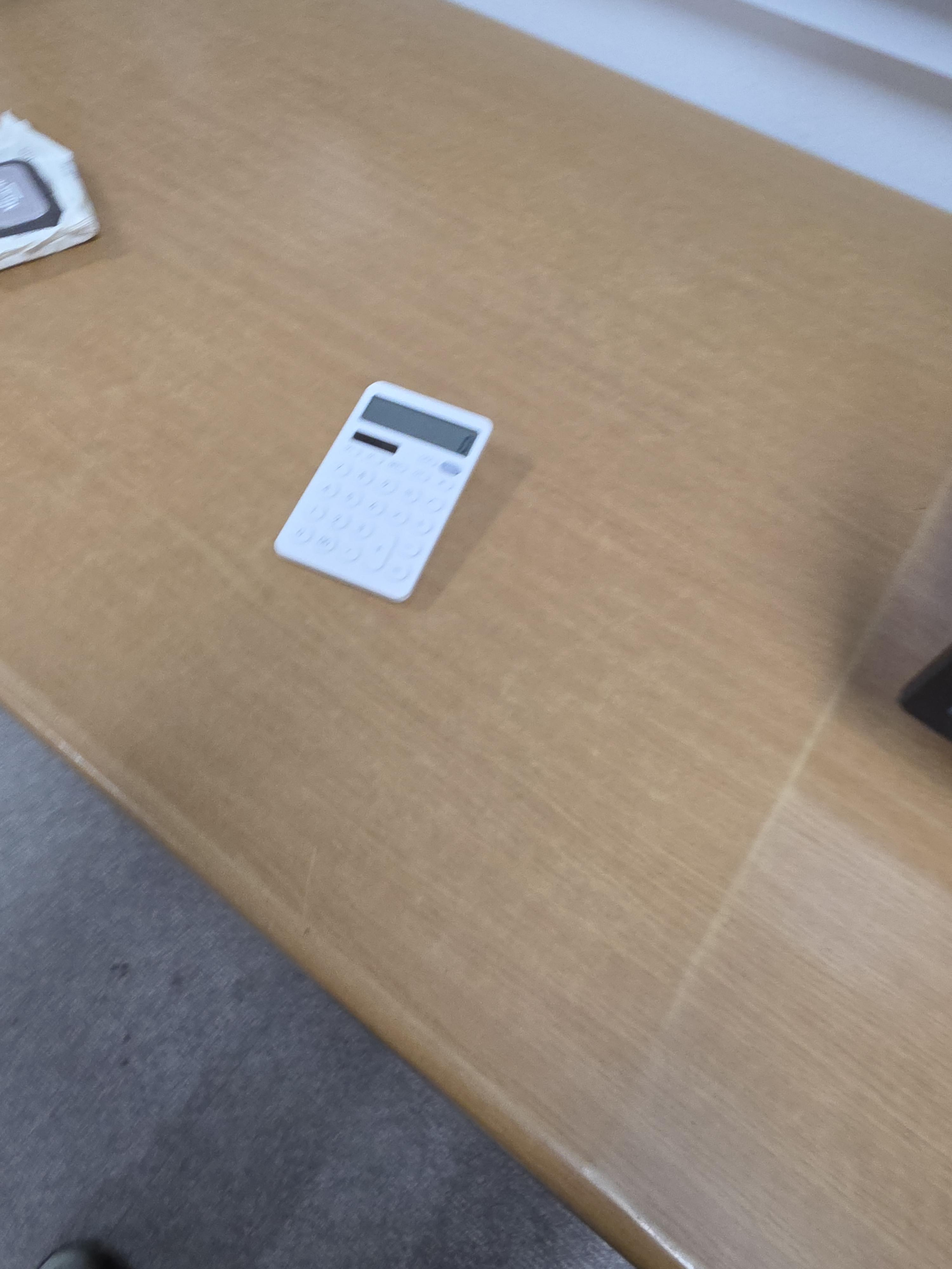calculator: (273, 380, 493, 604)
tissue: (0, 110, 100, 270)
